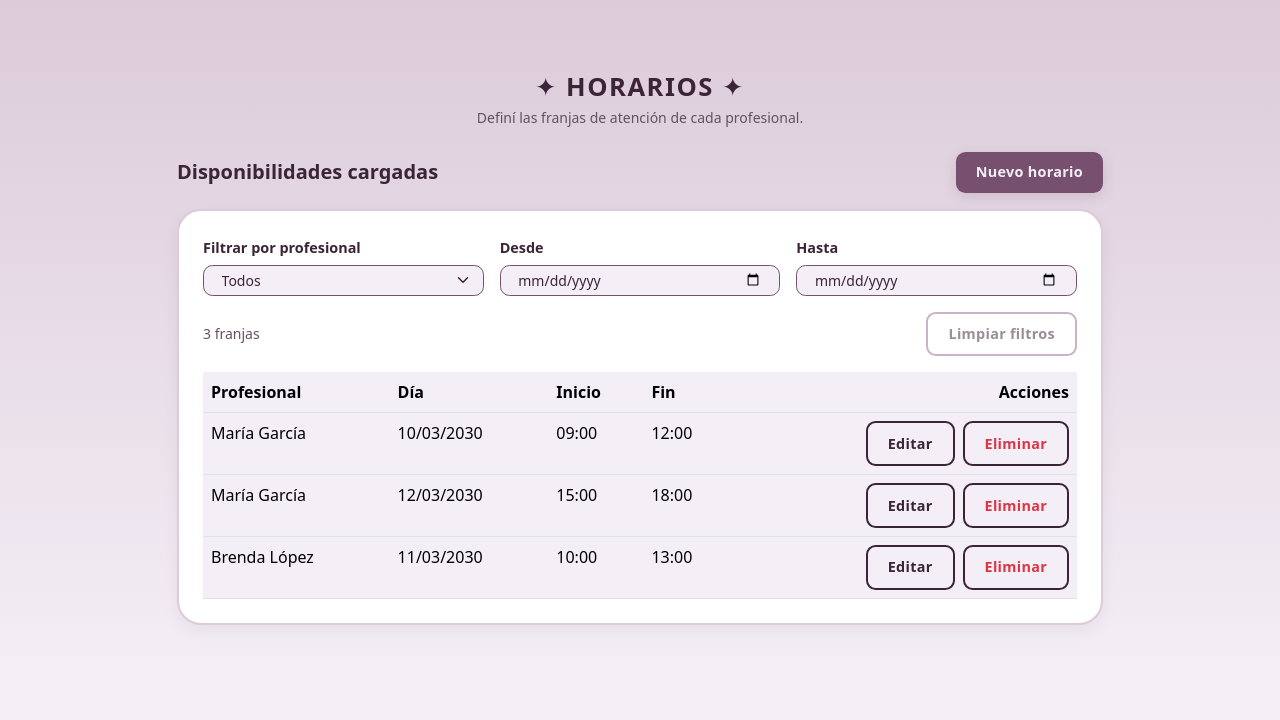
Test: AdminHorarios — creación › valida los campos obligatorios antes de enviar
The image size is (1280, 720).
Click the button "Nuevo horario". click: [1029, 172]
box: [956, 152, 1103, 192]
(page scrolled)
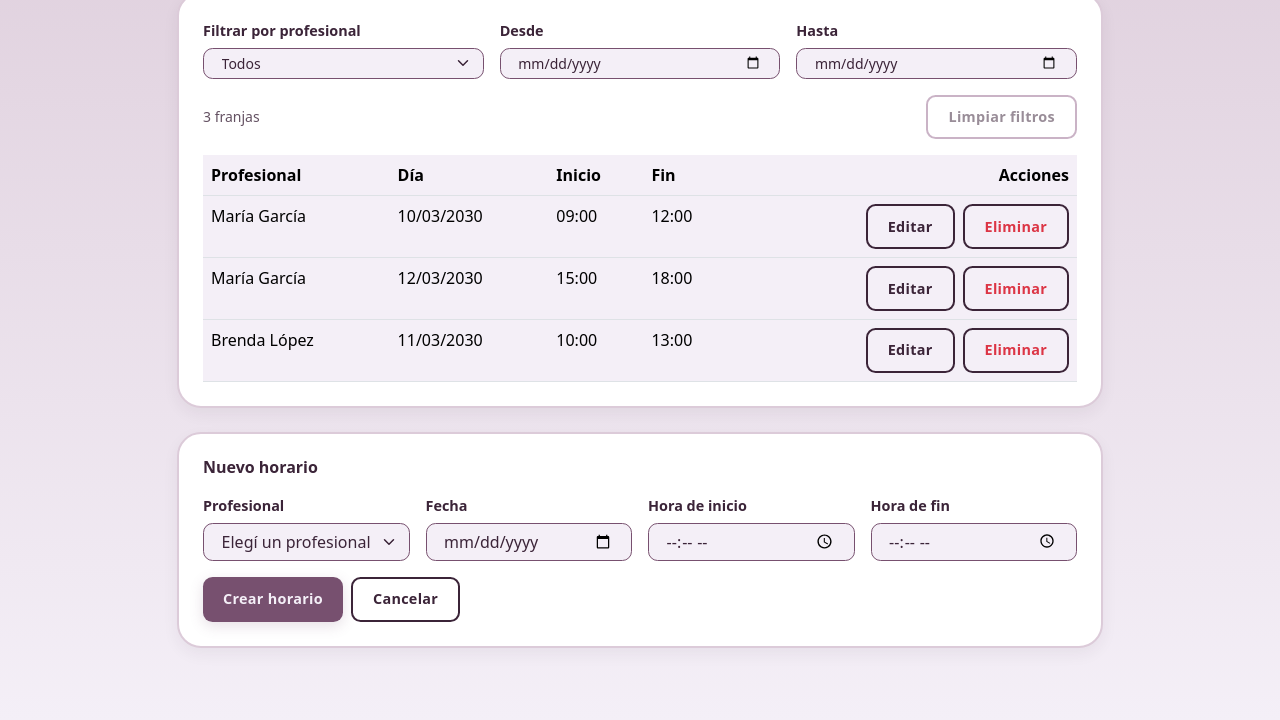
Click the button "Crear horario". click: [273, 599]
box: [203, 577, 343, 622]
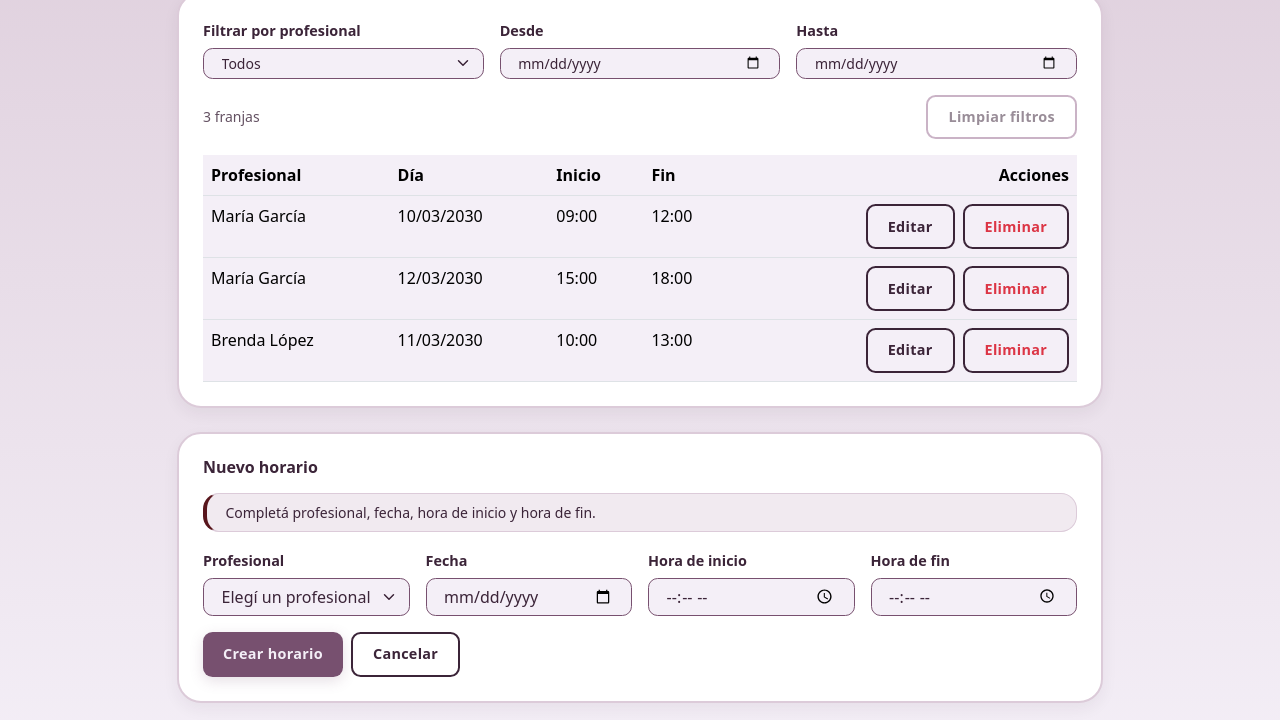
Expected: the text "Completá profesional, fecha, hora de inicio y hora de fin." is shown, [203, 493, 1077, 532]
